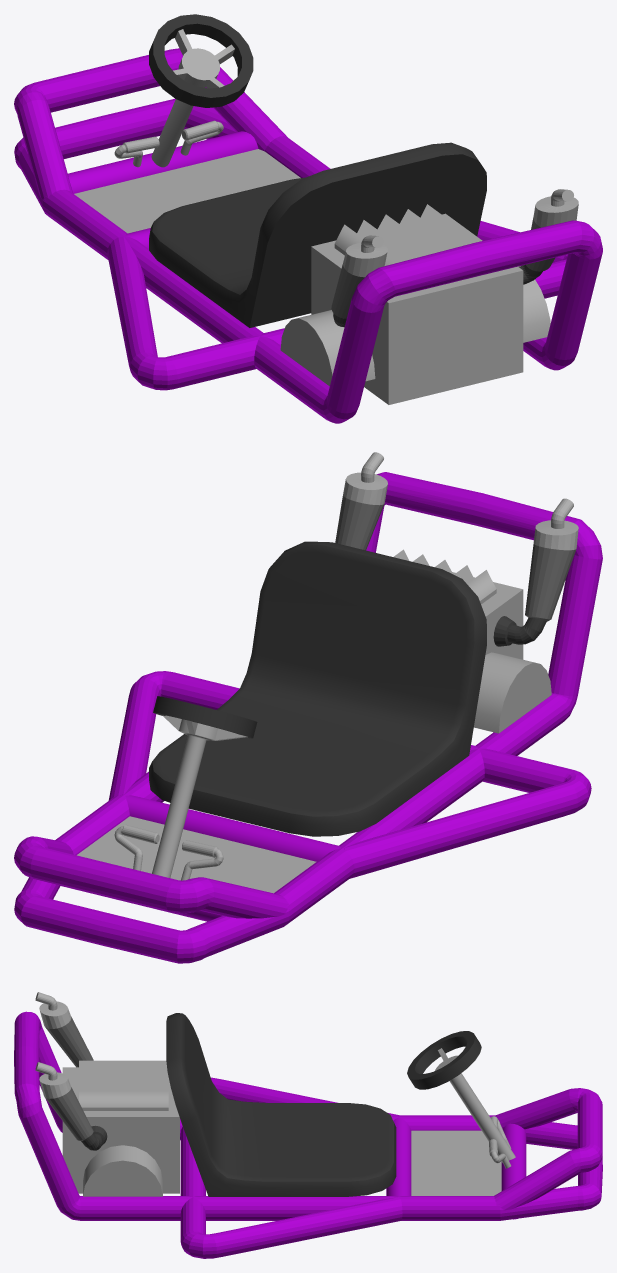
File: kart.fbx
The picture shows the model from 3 angles, top to bottom: view 1: azimuth 30°, elevation 25°; view 2: azimuth 150°, elevation 25°; view 3: azimuth 270°, elevation 25°; orthographic projection. The views are drawn at different scales.
Parts seen in each view (by area): view 1: pPipe2, pCylinder4, pCube5, pCylinder6, pCylinder3, pCube1, pCylinder11, pCylinder8, pCylinder9, pCylinder12; view 2: pPipe2, pCylinder4, pCylinder3, pCylinder6, pCylinder11, pCube5, pCube1, pCylinder2, pCylinder9, pCylinder12; view 3: pPipe2, pCylinder4, pCube5, pCylinder3, pCylinder6, pCube1, pCylinder11, pCylinder9, pCylinder2, pCylinder8, pCylinder12.
Part boxes in pixels (x1,y1,x2,y2): pPipe2: (149,14,486,327); pCylinder4: (14,98,602,423); pCube5: (280,204,550,404); pCylinder6: (14,48,287,200); pCylinder3: (107,221,567,390); pCube1: (74,149,300,233); pCylinder11: (331,189,578,327); pCylinder8: (68,131,258,193); pCylinder9: (151,29,234,167); pCylinder12: (114,120,223,167); pPipe2: (149,541,486,836); pCylinder4: (14,472,602,963); pCylinder3: (108,671,591,878); pCylinder6: (14,836,290,918); pCylinder11: (335,452,578,646); pCube5: (393,549,551,733); pCube1: (77,816,316,893); pCylinder2: (125,795,340,861); pCylinder9: (152,715,247,877); pCylinder12: (114,824,223,880); pPipe2: (166,1013,481,1196); pCylinder4: (14,1011,602,1220); pCube5: (62,1060,179,1196); pCylinder3: (180,1077,402,1258); pCylinder6: (494,1088,602,1210); pCube1: (411,1130,501,1195); pCylinder11: (35,992,107,1150); pCylinder9: (424,1048,515,1162); pCylinder2: (386,1117,411,1196); pCylinder8: (501,1123,526,1219); pCylinder12: (489,1116,511,1168).
Bounding box in the file's own units: 21.98 × 9.38 × 32.91.
